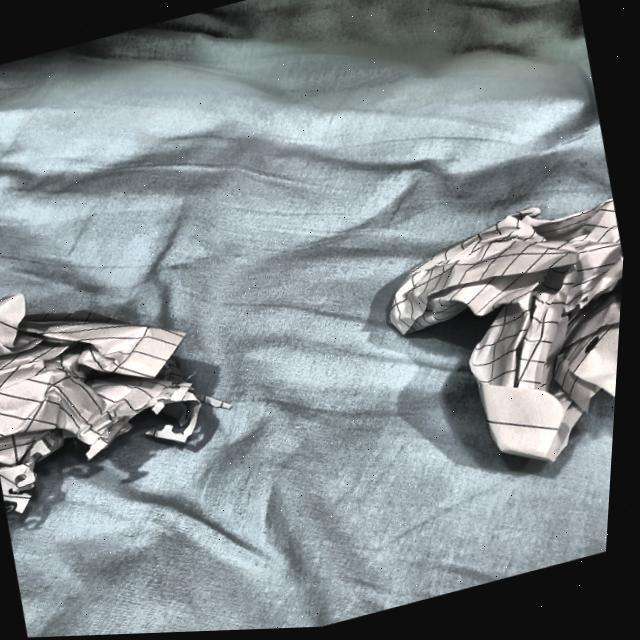paper: (365, 190, 630, 503), (0, 254, 242, 536)
